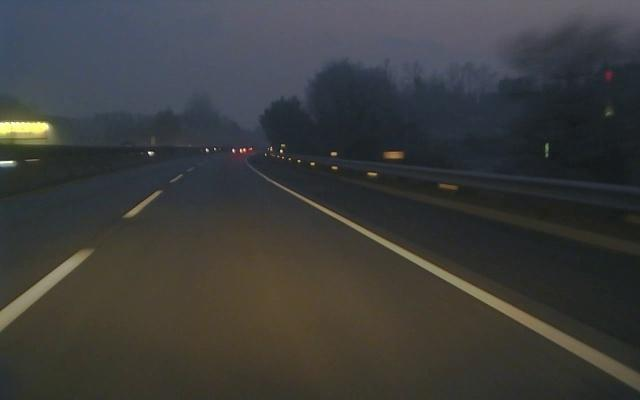lane: (260, 174, 640, 392), (0, 169, 187, 333)
